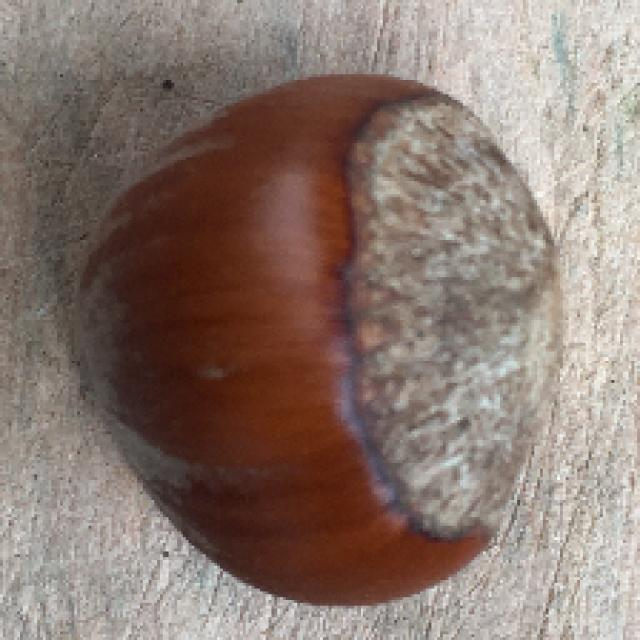qualityHazelnut: (74, 64, 566, 606)
